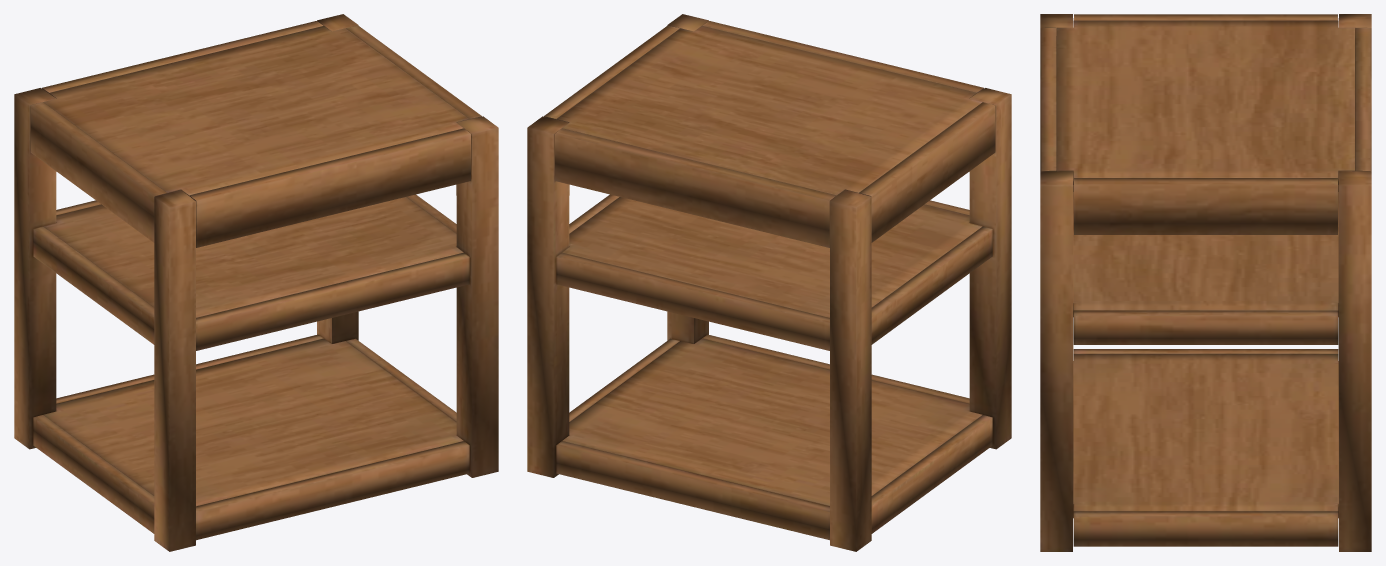
File: side_table_01.glb
3 views of the same model, side by side, from view 1: azimuth 30°, elevation 25°; view 2: azimuth 150°, elevation 25°; view 3: azimuth 270°, elevation 25° (orthographic). The views are drawn at different scales.
Parts seen in each view (by area): view 1: side_table_01; view 2: side_table_01; view 3: side_table_01.
Part boxes in pixels (x1,y1,x2,y2): side_table_01: (14,14,498,551); side_table_01: (527,14,1011,551); side_table_01: (1040,14,1371,551).
Bounding box in the file's own units: 0.5485 × 0.5507 × 0.4486.
1 material, 1 textured.
